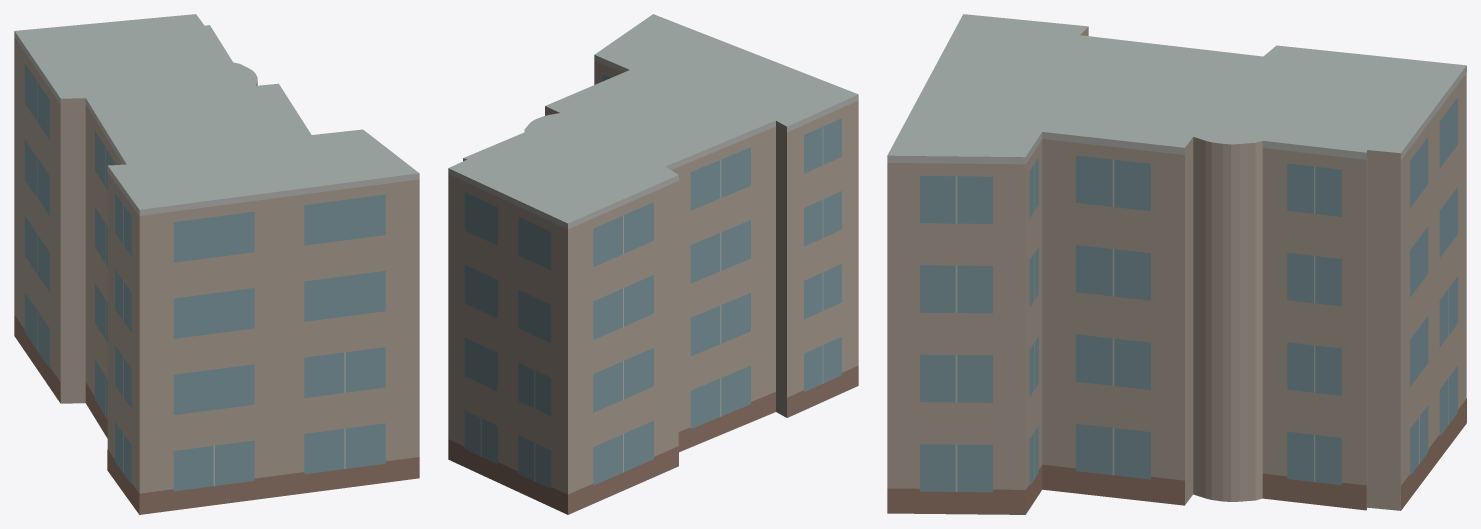
File: survey-upis-32760809.glb
3 renders of one model, left to right at view 1: azimuth 30°, elevation 25°; view 2: azimuth 150°, elevation 25°; view 3: azimuth 270°, elevation 25°, orthographic. The views are drawn at different scales.
Parts seen in each view (by area): view 1: survey-upis-32760809.tmp; view 2: survey-upis-32760809.tmp; view 3: survey-upis-32760809.tmp.
Part boxes in pixels (x1,y1,x2,y2): survey-upis-32760809.tmp: (14,14,419,514); survey-upis-32760809.tmp: (448,14,858,514); survey-upis-32760809.tmp: (887,14,1466,514).
Size of the model in its own units: 10.48 by 12.2 by 17.93.
